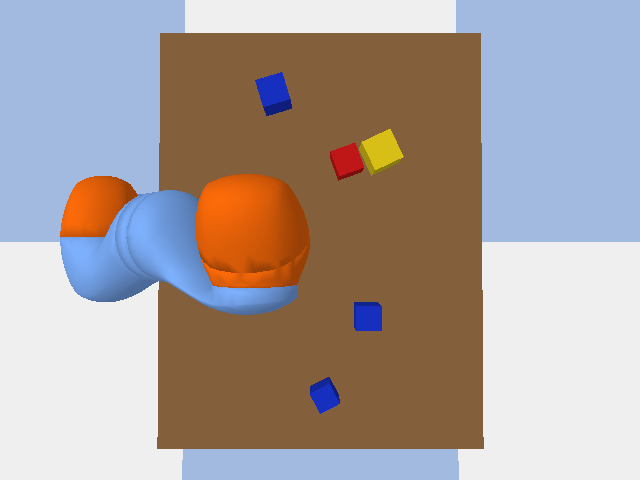blue_obj: (255, 72, 291, 115), (310, 377, 339, 413), (354, 302, 381, 330)
red_obj: (330, 143, 363, 180)
yellow_obj: (359, 129, 403, 175)
